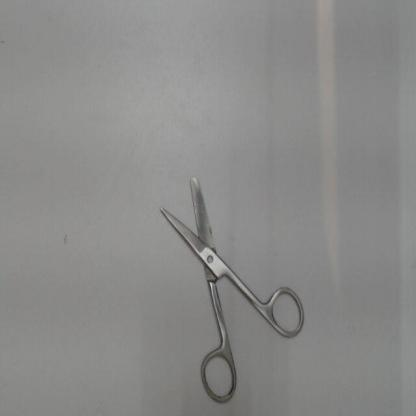Dressing Scissors: (154, 164, 314, 410)
